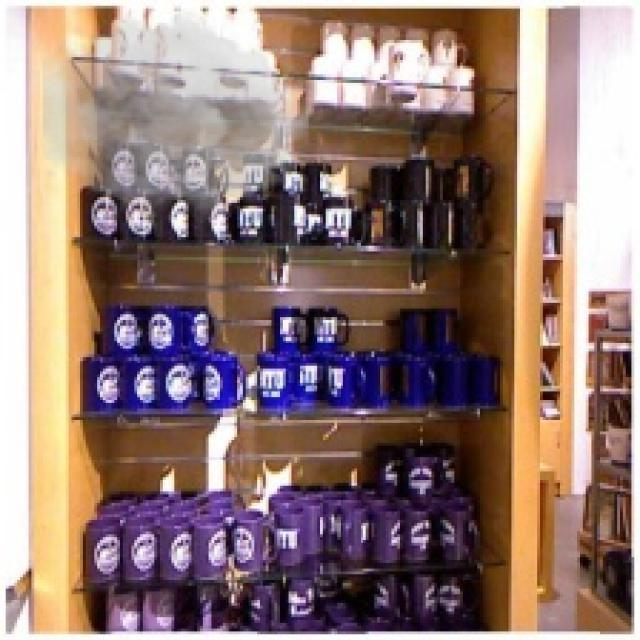Smoke: (42, 8, 308, 223)
